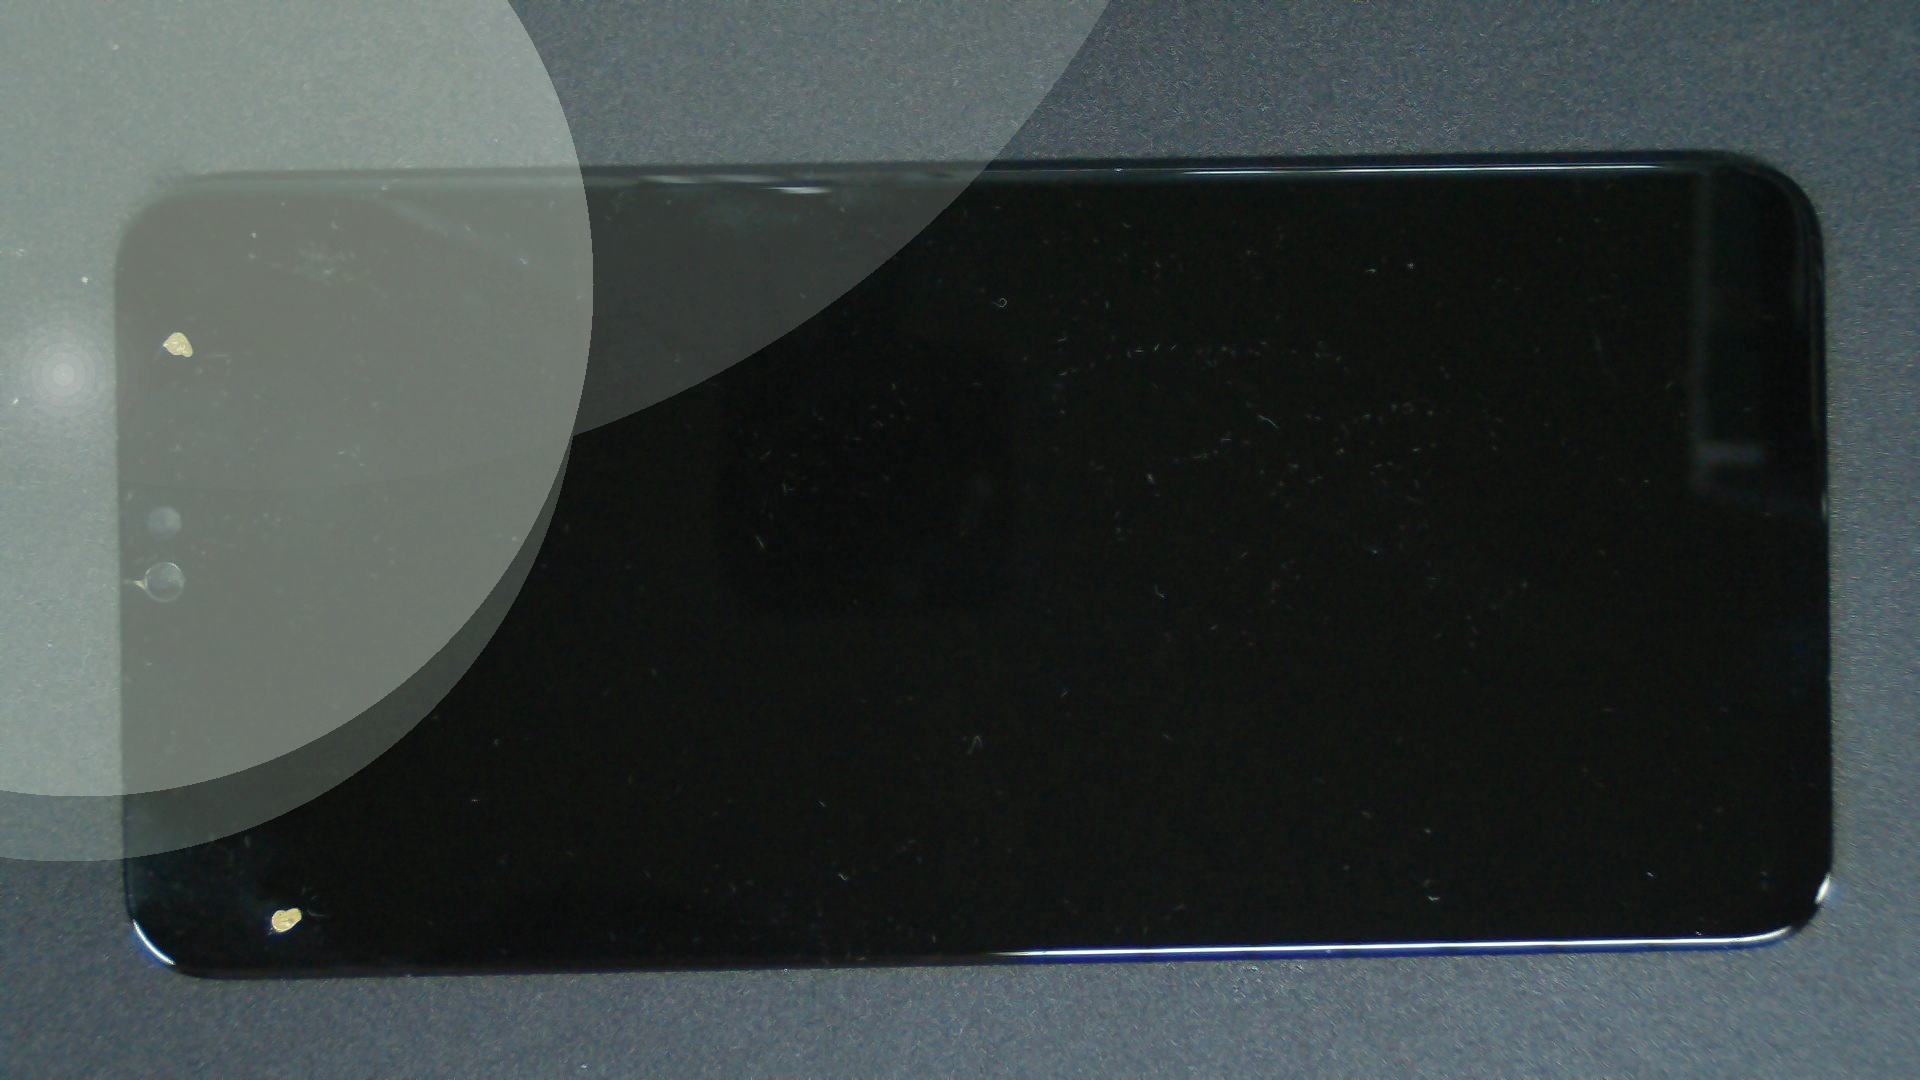oil: (146, 454, 438, 1080), (88, 165, 265, 497)
